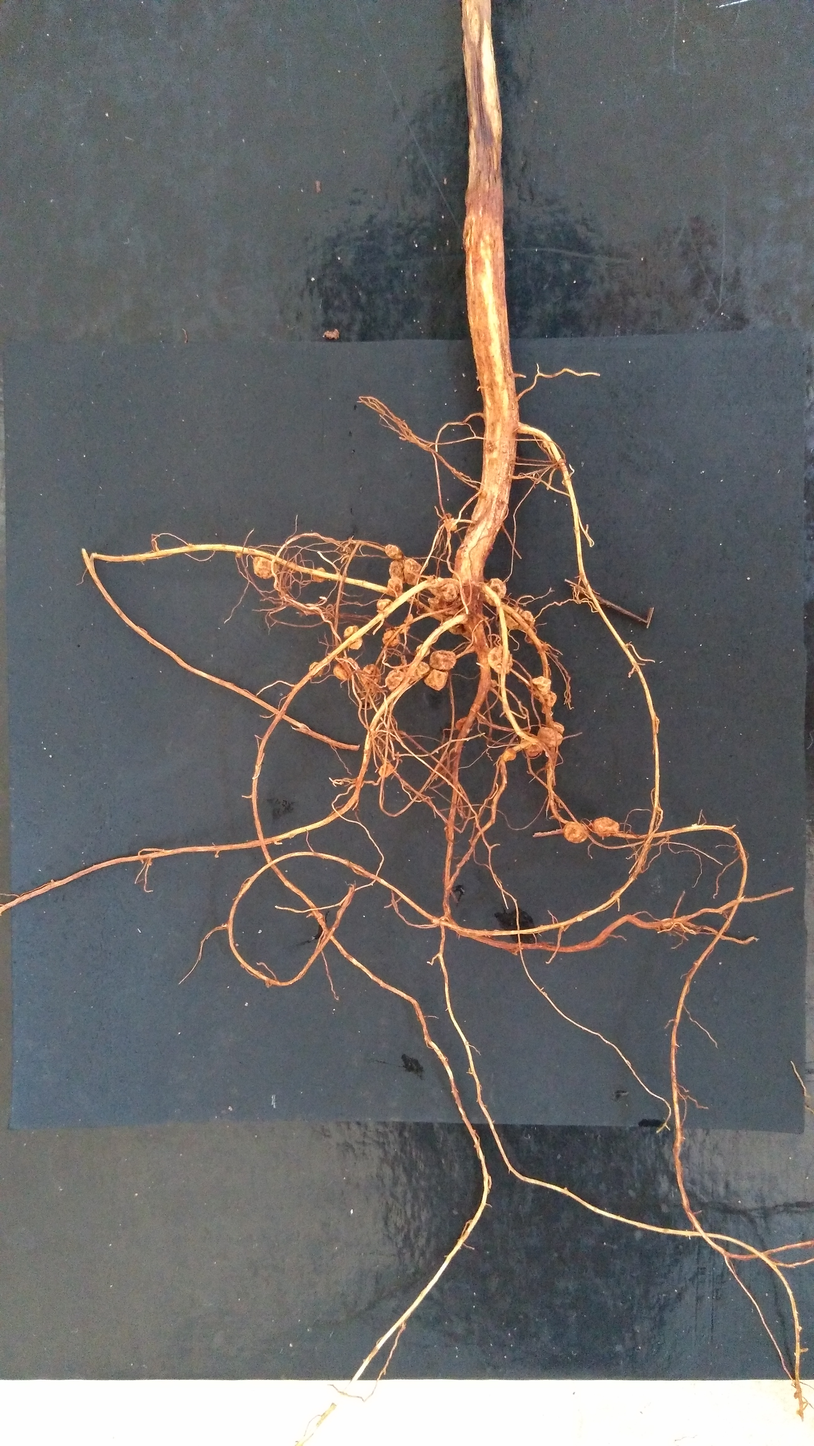nodule: (504, 606, 535, 630), (488, 646, 513, 673), (253, 556, 279, 579), (484, 578, 506, 605), (428, 583, 459, 602), (428, 598, 460, 616), (564, 821, 589, 843), (429, 650, 456, 670), (592, 817, 619, 836), (424, 670, 448, 691), (526, 676, 551, 696), (343, 626, 363, 650), (404, 558, 421, 585), (385, 669, 405, 691), (443, 616, 466, 634), (537, 726, 556, 747), (389, 560, 405, 583), (526, 735, 542, 757), (541, 691, 556, 714), (410, 661, 429, 679), (362, 664, 380, 683), (333, 662, 351, 680), (382, 630, 400, 647), (377, 599, 393, 618), (387, 578, 403, 595), (385, 544, 402, 559), (379, 763, 393, 778), (309, 662, 323, 677), (455, 716, 469, 730), (313, 568, 326, 583), (549, 721, 564, 733), (416, 644, 429, 657), (503, 748, 516, 760), (304, 603, 317, 615), (662, 918, 673, 929), (525, 632, 535, 643), (446, 521, 457, 531), (555, 731, 562, 746), (404, 613, 413, 623), (400, 625, 410, 633), (483, 616, 489, 628), (430, 636, 439, 643), (541, 643, 548, 651), (491, 679, 497, 687), (236, 552, 243, 558)
